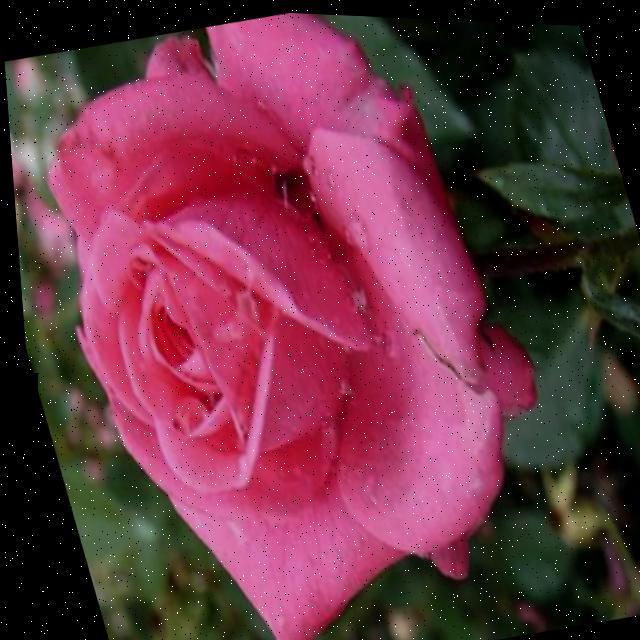rose: (0, 0, 608, 640)
